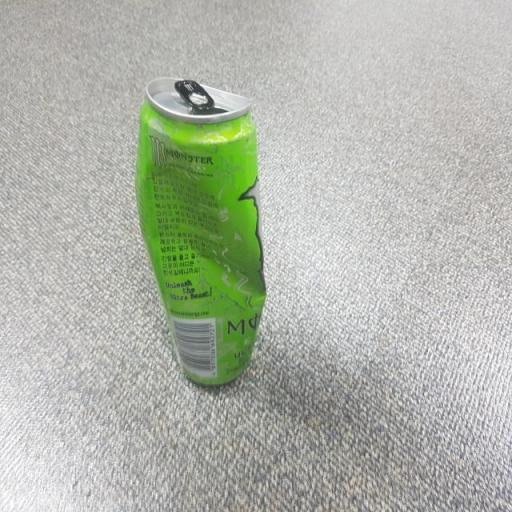metal: (120, 39, 301, 449)
